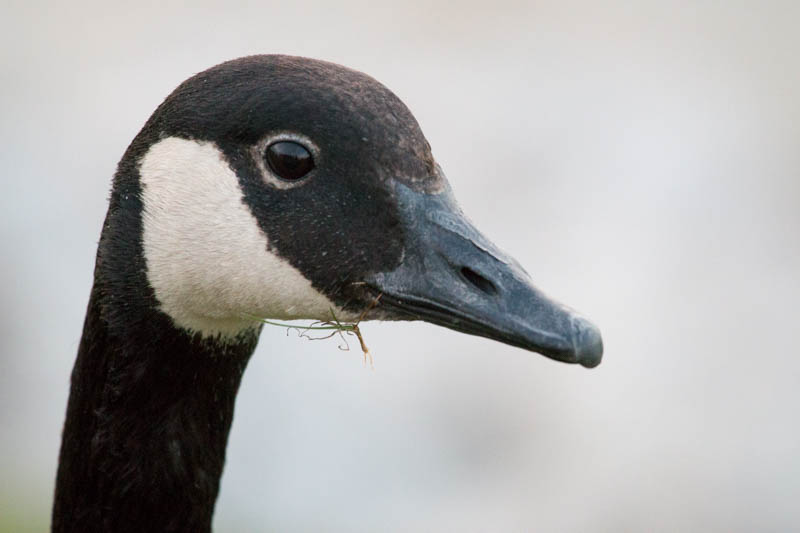goose-head: (90, 54, 604, 369)
